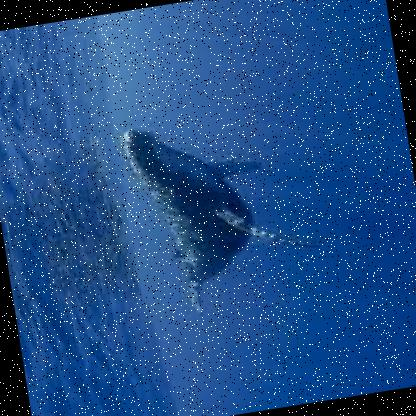blue_whale: (87, 95, 330, 341)
